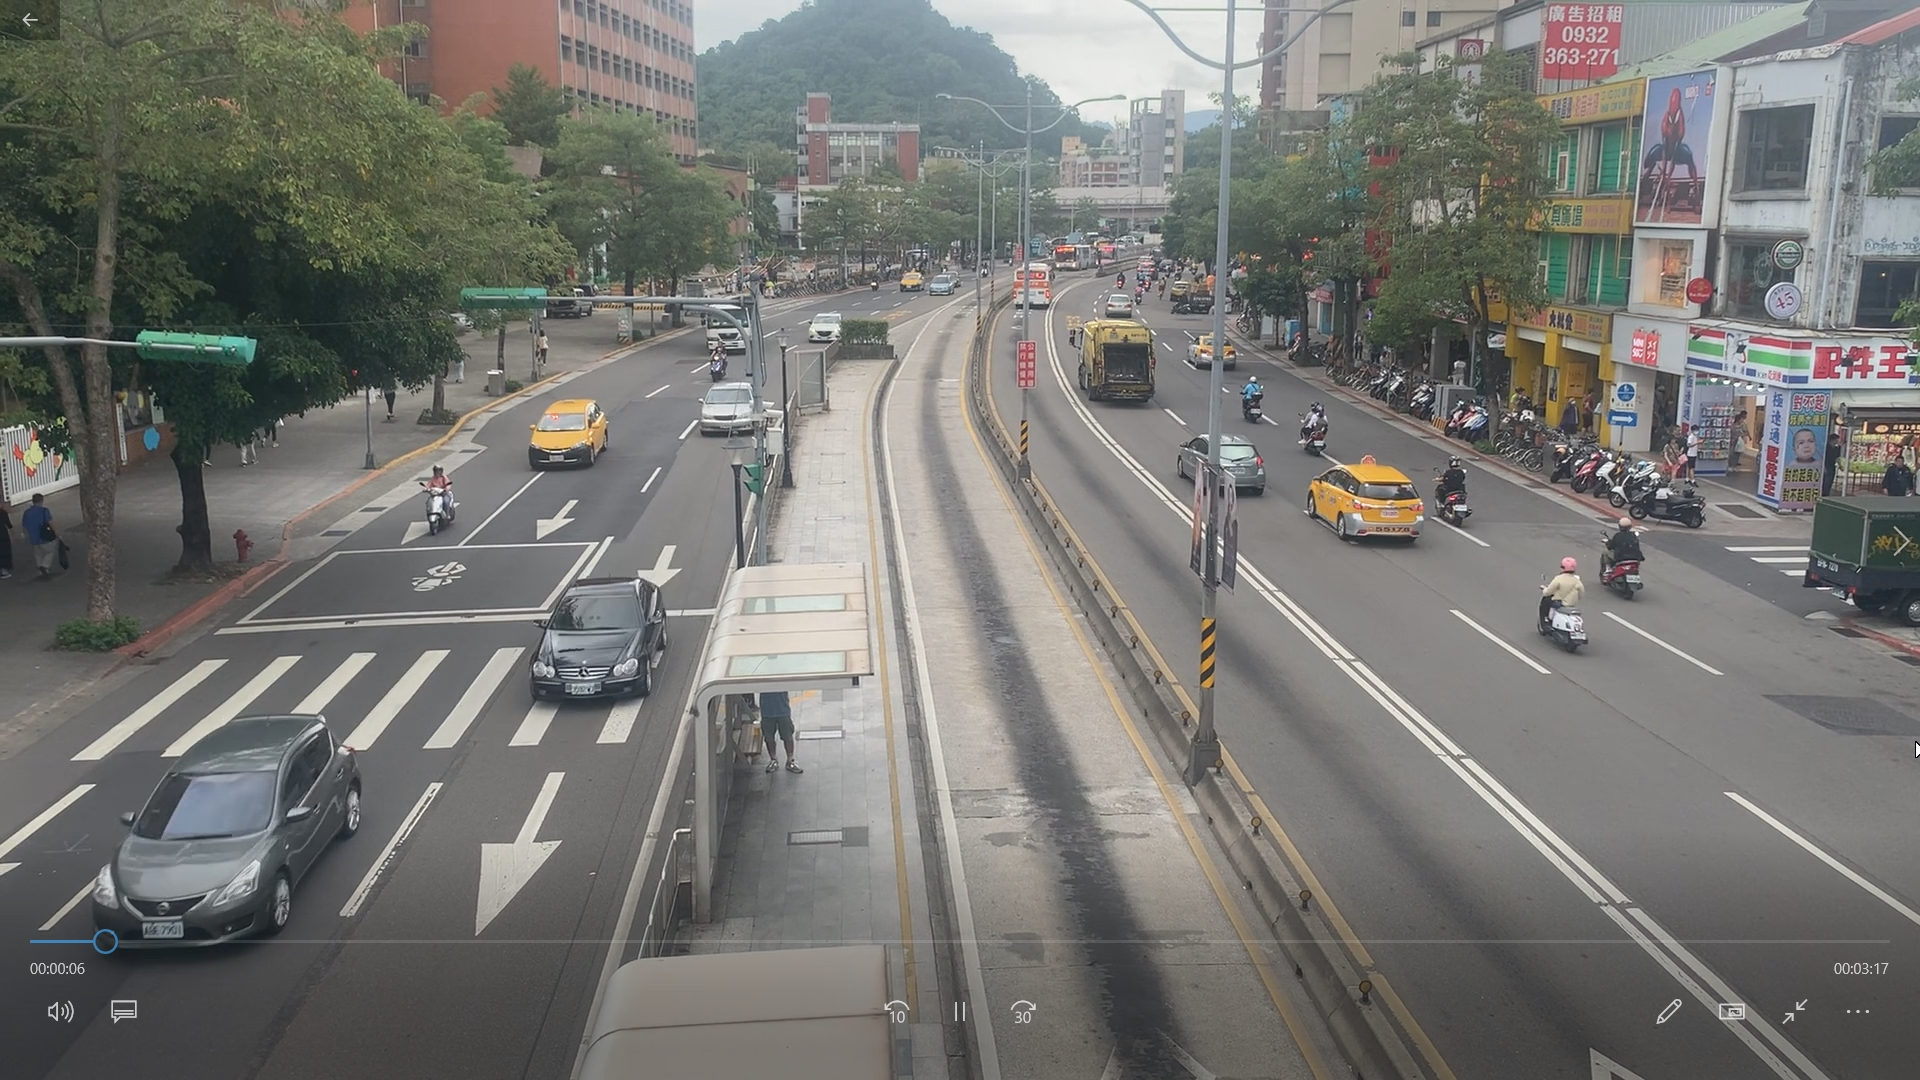Bus: (1072, 319, 1163, 400), (1011, 266, 1059, 309)
Business Passenger Car: (1307, 460, 1420, 554), (527, 404, 611, 467), (1189, 327, 1234, 373), (899, 269, 927, 295)
Motorcycle: (1592, 506, 1652, 597), (1536, 553, 1586, 647), (418, 460, 463, 533), (1433, 448, 1466, 524), (1300, 396, 1335, 456), (1236, 375, 1271, 423), (702, 345, 731, 382)
Private Passenger Car: (103, 711, 365, 951), (534, 578, 655, 698), (1180, 431, 1273, 502), (696, 382, 760, 436), (807, 311, 843, 342), (1100, 287, 1135, 318), (927, 272, 953, 298)
